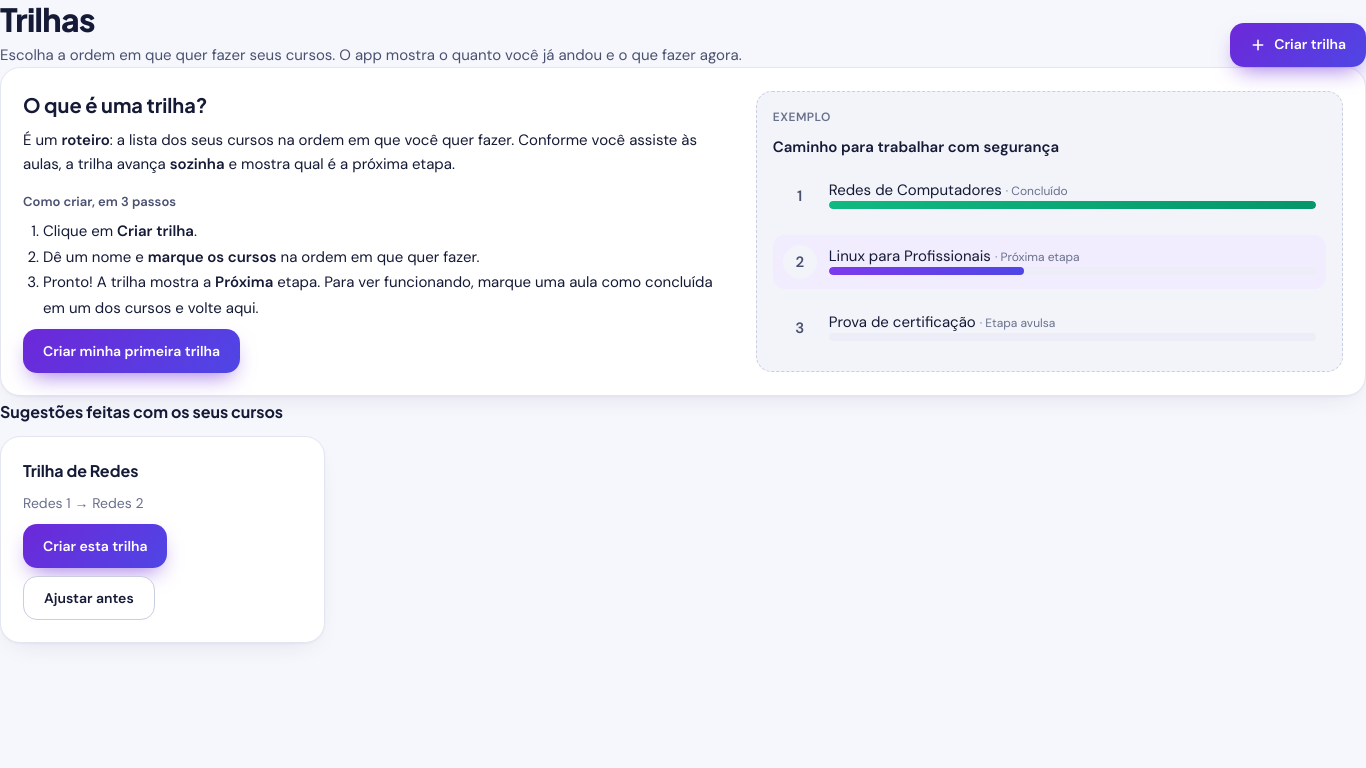
Scenario: Trilhas · assistente de criação › sem nome mostra o erro da API no campo e mantém o assistente aberto
Click the button "Criar trilha": (1298, 45) [1230,23,1365,67]
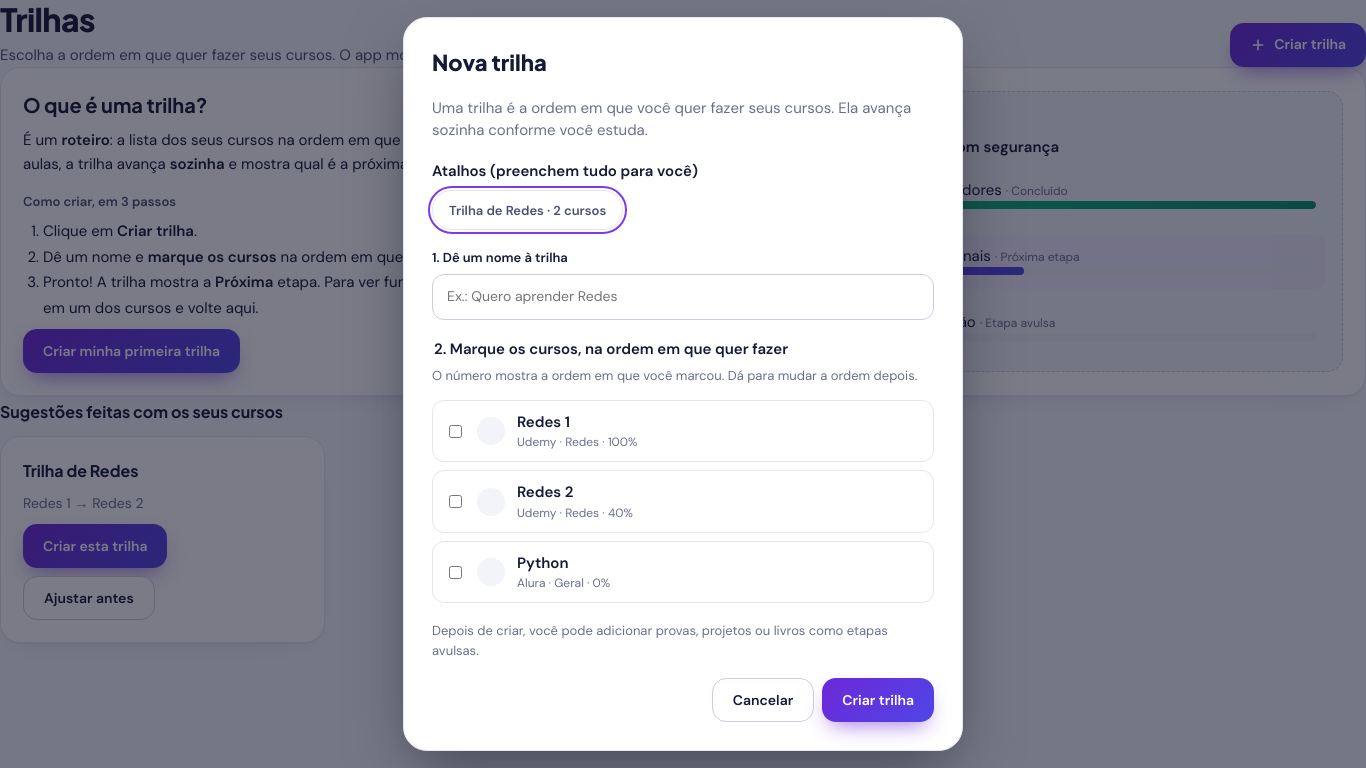
Submit the form with id "tw-title", box [432,97,934,722]
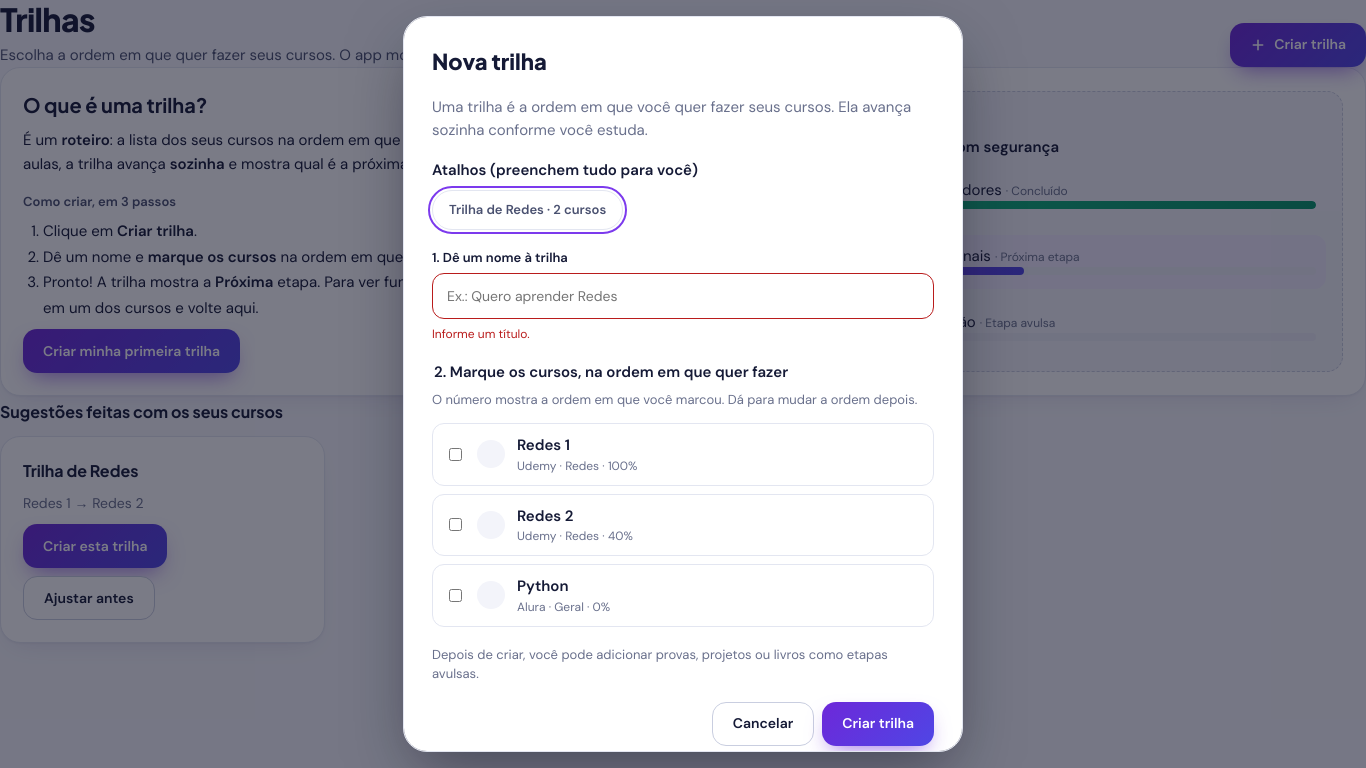
expect the field with id "tw-title" is shown: met, box [432,273,934,319]
expect the text with class "error-text" reads "Informe um título.": met, box [432,326,530,342]
